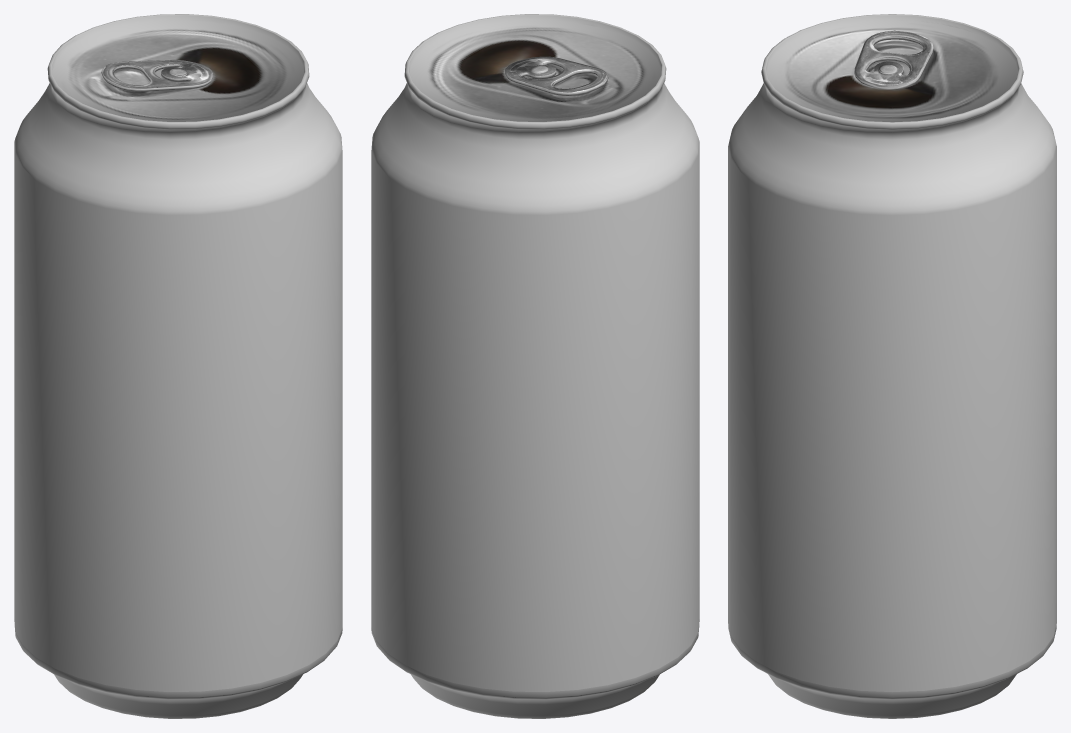
The model's file is SodaCan.glb.
The picture shows the model from 3 angles, left to right: view 1: azimuth 30°, elevation 25°; view 2: azimuth 150°, elevation 25°; view 3: azimuth 270°, elevation 25°; orthographic projection.
Visible parts, largest first — view 1: Soda; view 2: Soda; view 3: Soda.
Boxes of the visible parts, x1,y1,x2,y2 form: Soda: [14, 14, 342, 718]; Soda: [371, 14, 699, 718]; Soda: [728, 14, 1056, 718].
Bounding box in the file's own units: 0.0825 × 0.1669 × 0.0825.
Materials: 3 (2 with a texture image).
